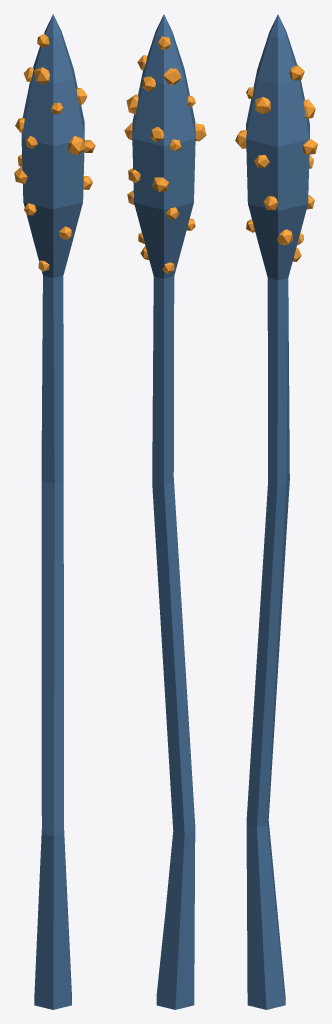
The model's file is AW_Tree05.fbx.
3 views of the same model, side by side, from view 1: azimuth 90°, elevation 25°; view 2: azimuth 150°, elevation 25°; view 3: azimuth 330°, elevation 25° (orthographic).
Parts seen in each view (by area): view 1: AW_Tree05; view 2: AW_Tree05; view 3: AW_Tree05.
Boxes of the visible parts, x1,y1,x2,y2 form: AW_Tree05: [14, 14, 95, 1009]; AW_Tree05: [124, 14, 206, 1009]; AW_Tree05: [235, 14, 317, 1009].
Bounding box in the file's own units: 25.64 × 349 × 26.25.
1 material, 1 textured.
